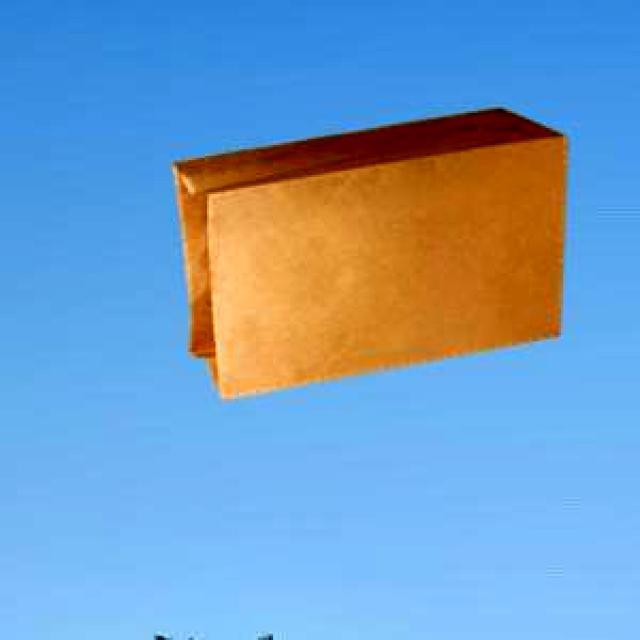Paper_Bag: (170, 106, 564, 396)
